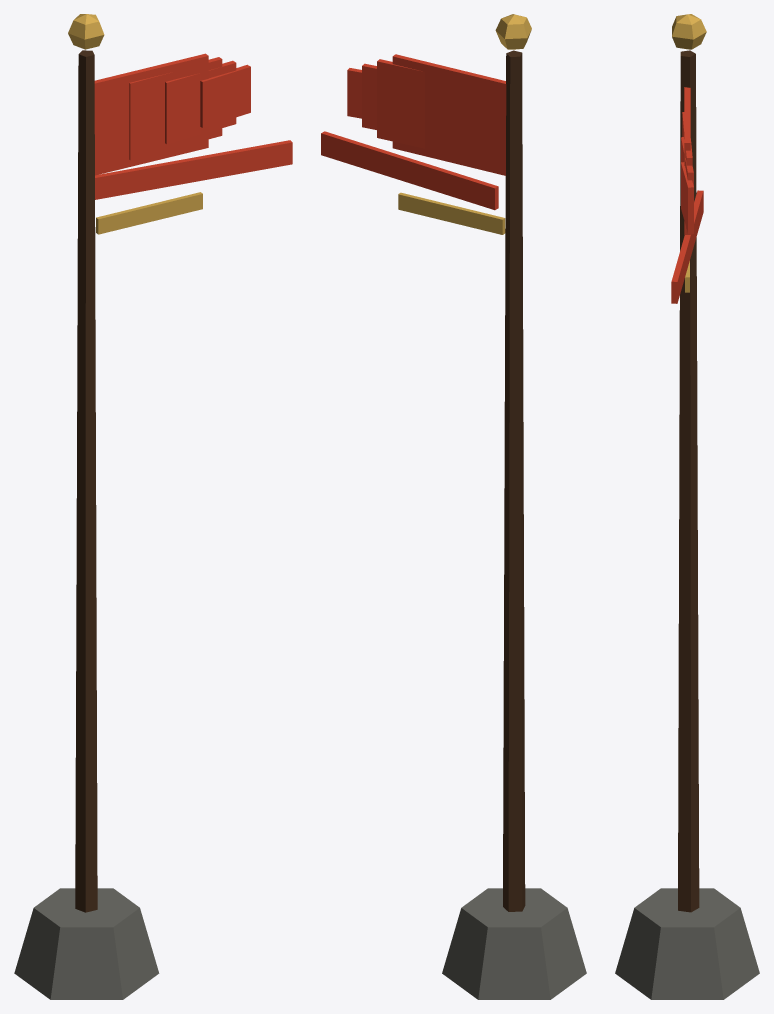
Rendered from prop_obangki_red.glb.
3 renders of one model, left to right at view 1: azimuth 30°, elevation 25°; view 2: azimuth 150°, elevation 25°; view 3: azimuth 270°, elevation 25°, orthographic.
Parts seen in each view (by area): view 1: prop_obangki_red; view 2: prop_obangki_red; view 3: prop_obangki_red.
Part boxes in pixels (box(x1,y1,x2,y2)): prop_obangki_red: box(14, 14, 292, 999); prop_obangki_red: box(321, 14, 586, 999); prop_obangki_red: box(615, 14, 759, 999).
Bounding box in the file's own units: 1.21 × 4.38 × 0.6.
